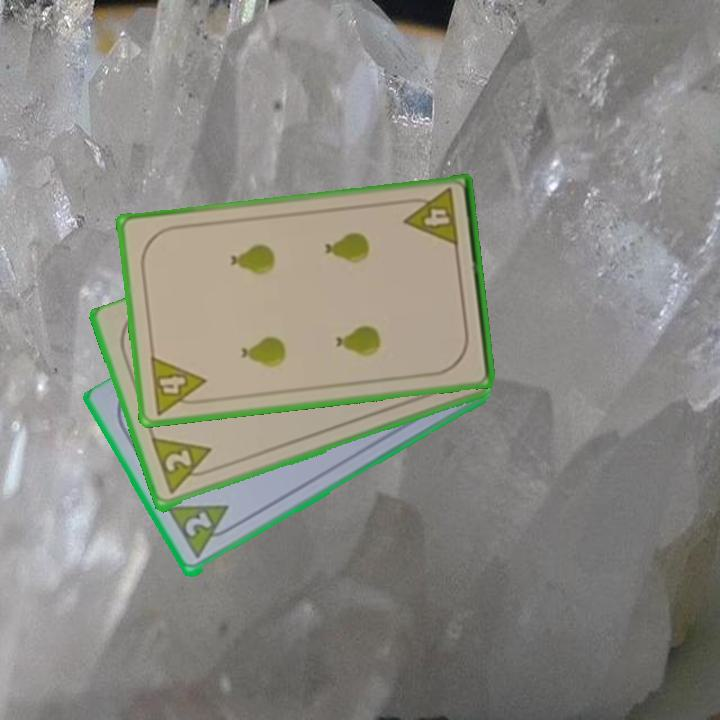2p: (164, 501, 241, 563), (148, 435, 220, 498)
4p: (146, 352, 211, 417), (399, 185, 462, 250)
